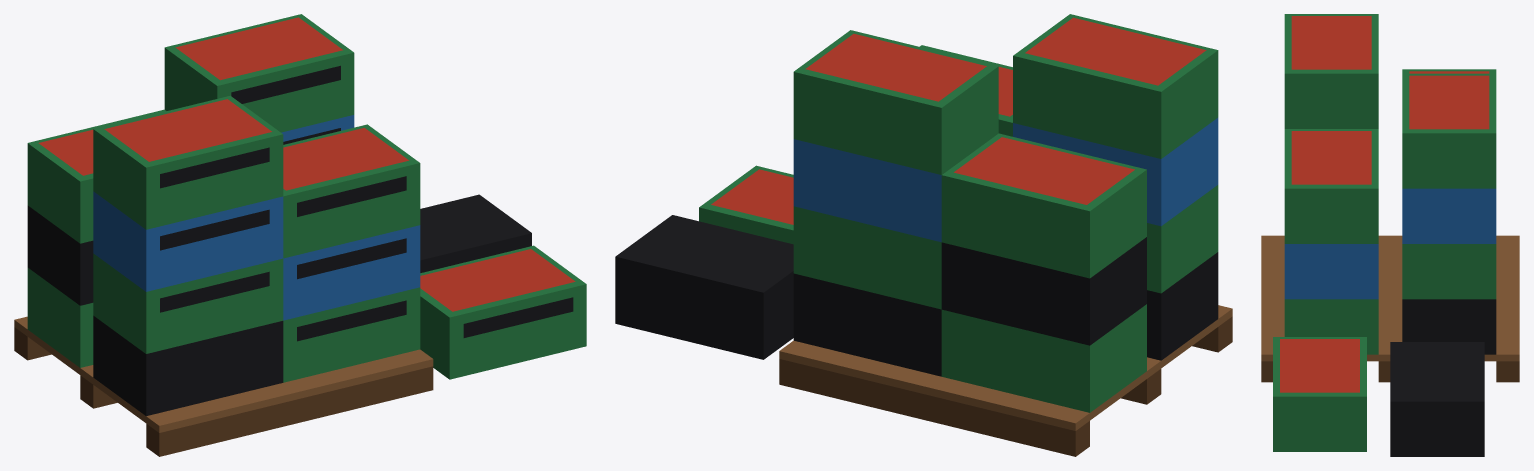
Rendered from prop_field-crates.4e2226b78a8c.glb.
The picture shows the model from 3 angles, left to right: view 1: azimuth 30°, elevation 25°; view 2: azimuth 150°, elevation 25°; view 3: azimuth 270°, elevation 25°; orthographic projection. The views are drawn at different scales.
Visible parts, largest first — view 1: body; view 2: body; view 3: body.
Part boxes in pixels (x1,y1,x2,y2): body: (14, 14, 586, 456); body: (615, 14, 1232, 456); body: (1261, 14, 1519, 456).
Size of the model in its own units: 1.95 by 1.17 by 1.1.
